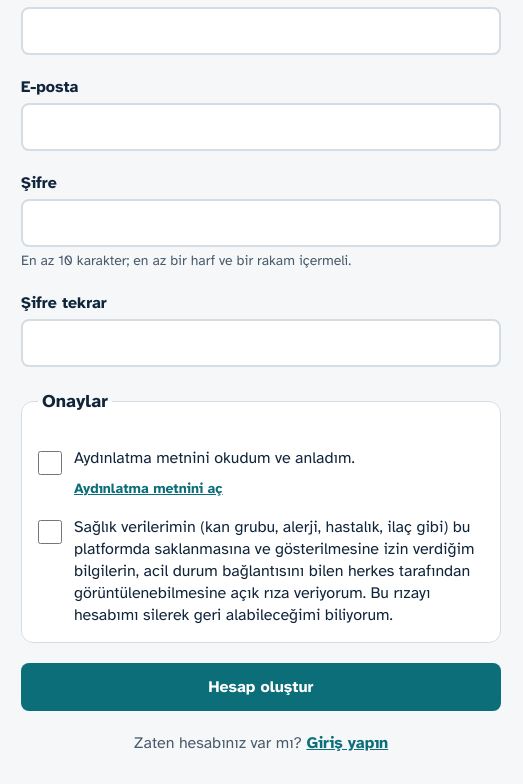
Kayıt formu › boş gönderimde alan hatalarını gösterir ve istek yapmaz
(page scrolled)
Click the button "Hesap oluştur": point(261, 687) [21,663,501,711]
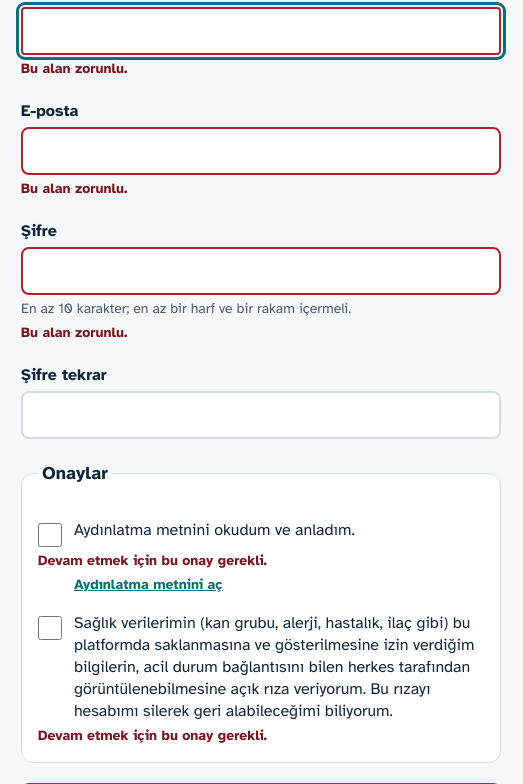
Result: the text "Devam etmek için bu onay gerekli." is shown 2 times at [38,552,267,569]; [38,727,267,744]
